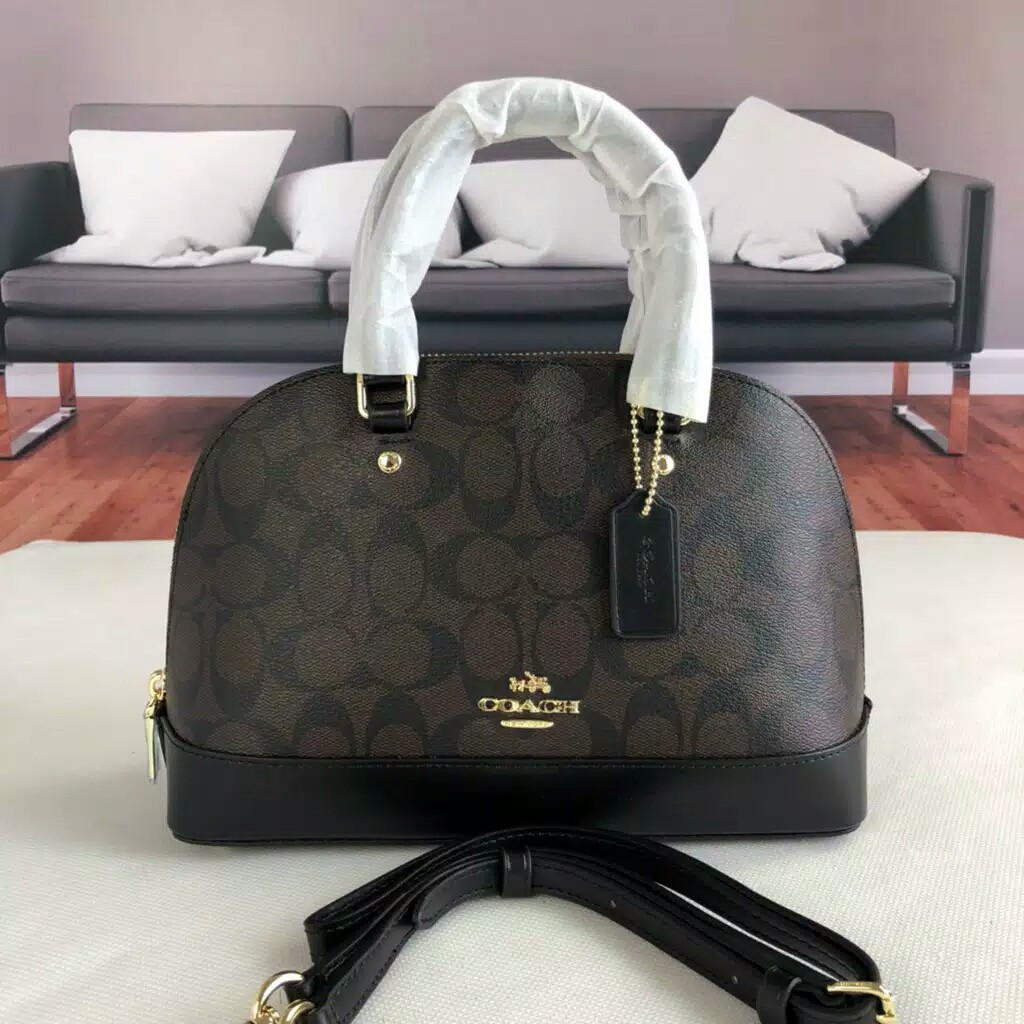bantal: (697, 99, 898, 262), (60, 124, 273, 258)
sova: (1, 94, 1000, 454)
